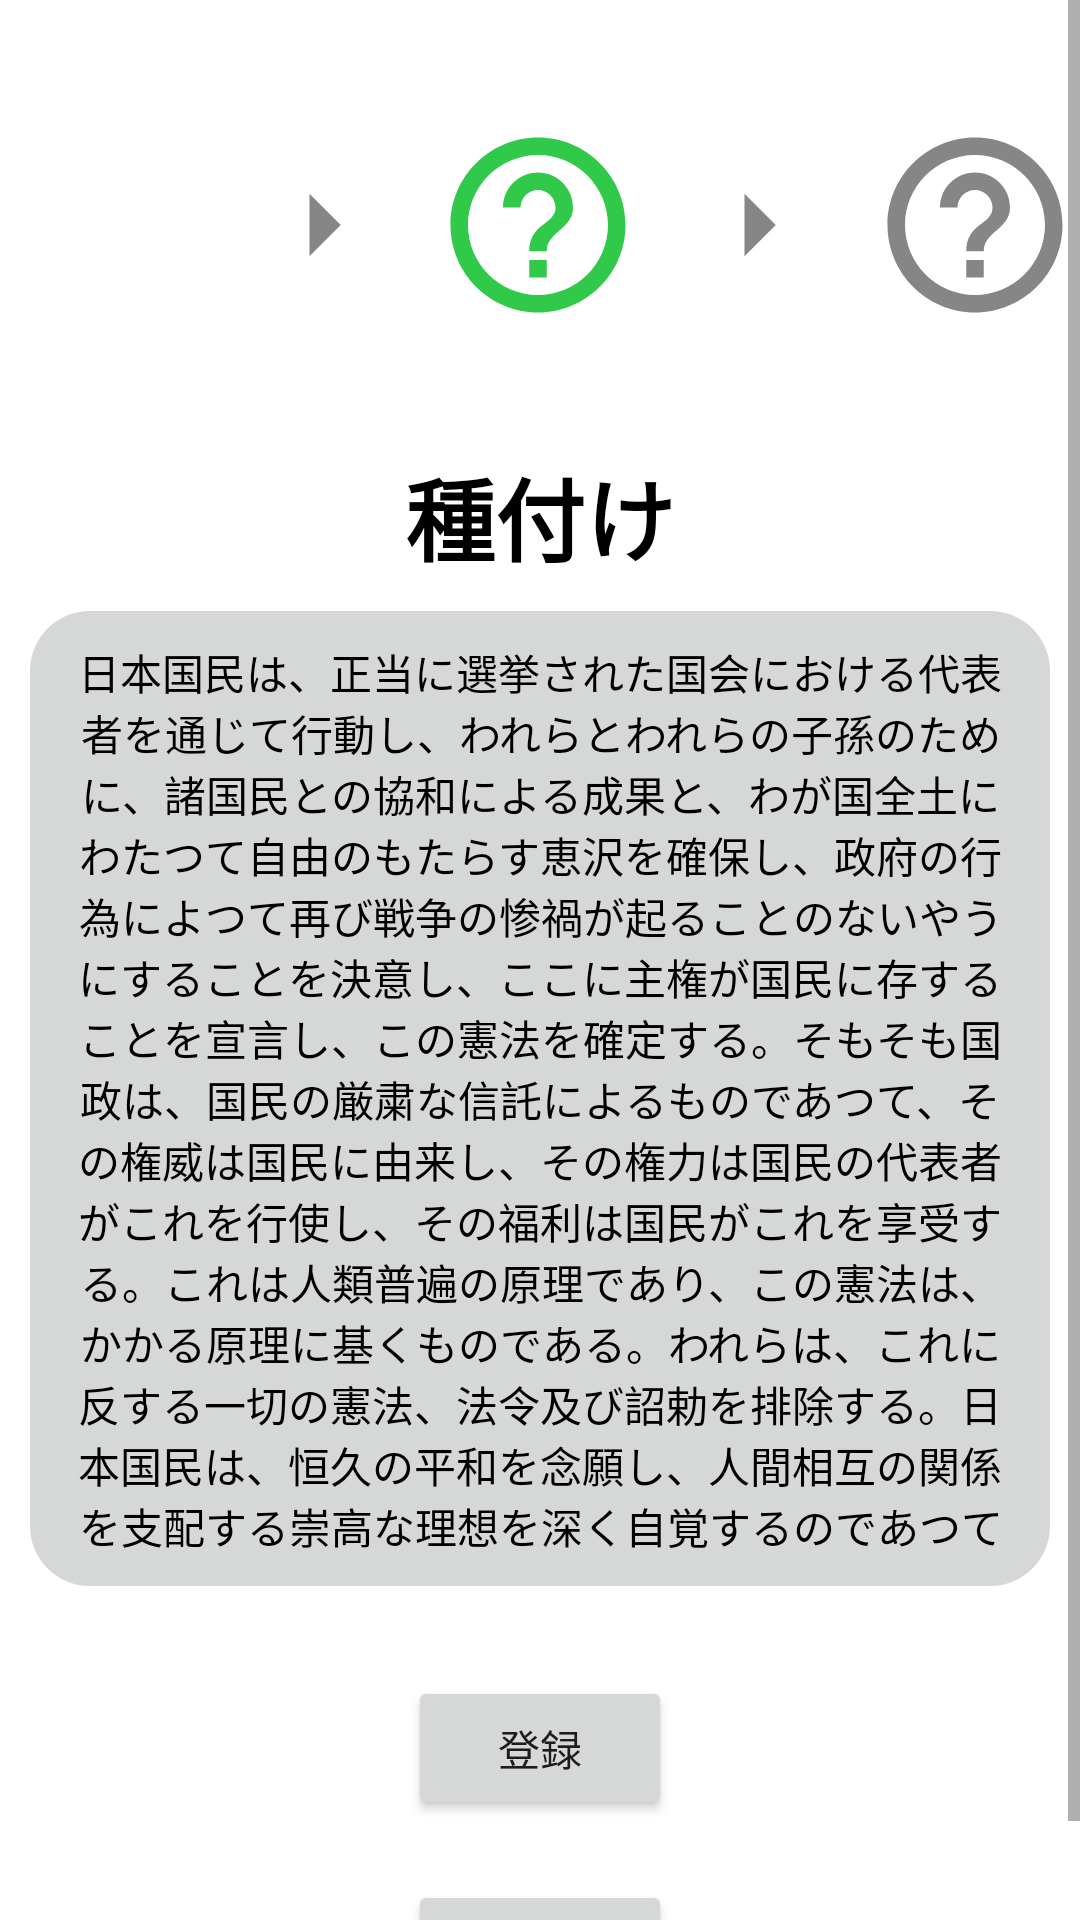

Where icons sit on this 1080 × 1920 app screen, as (x1, y1, x2, y2):
arrow right: (309, 194, 341, 256), (744, 194, 776, 256)
help: (450, 137, 626, 313), (887, 137, 1063, 313)
